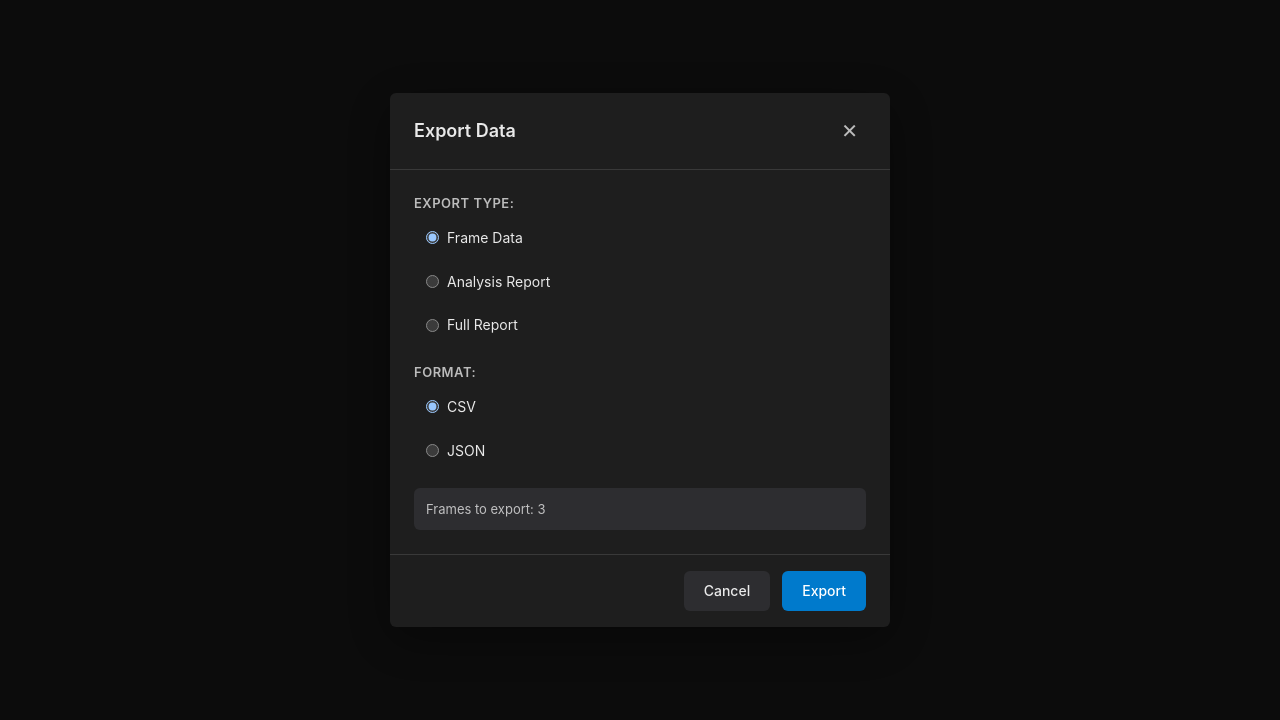
it: ExportDialog › displays Text and PDF format options for analysis type
Note: Click on Analysis Report radio button
Click the radio button labelled "Analysis Report": (432, 282) [426,275,439,288]
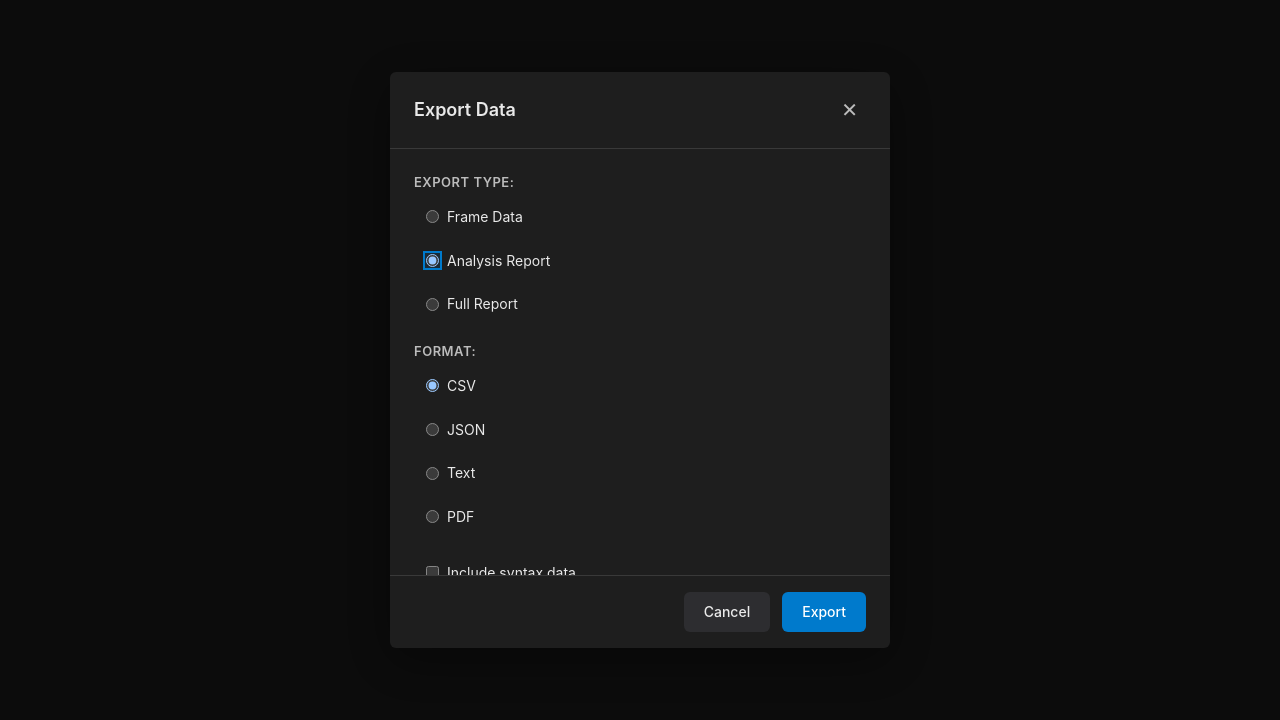
Result: the text "Text" is shown at [447,463,475,483]
Result: the text "PDF" is shown at [447,507,474,526]
